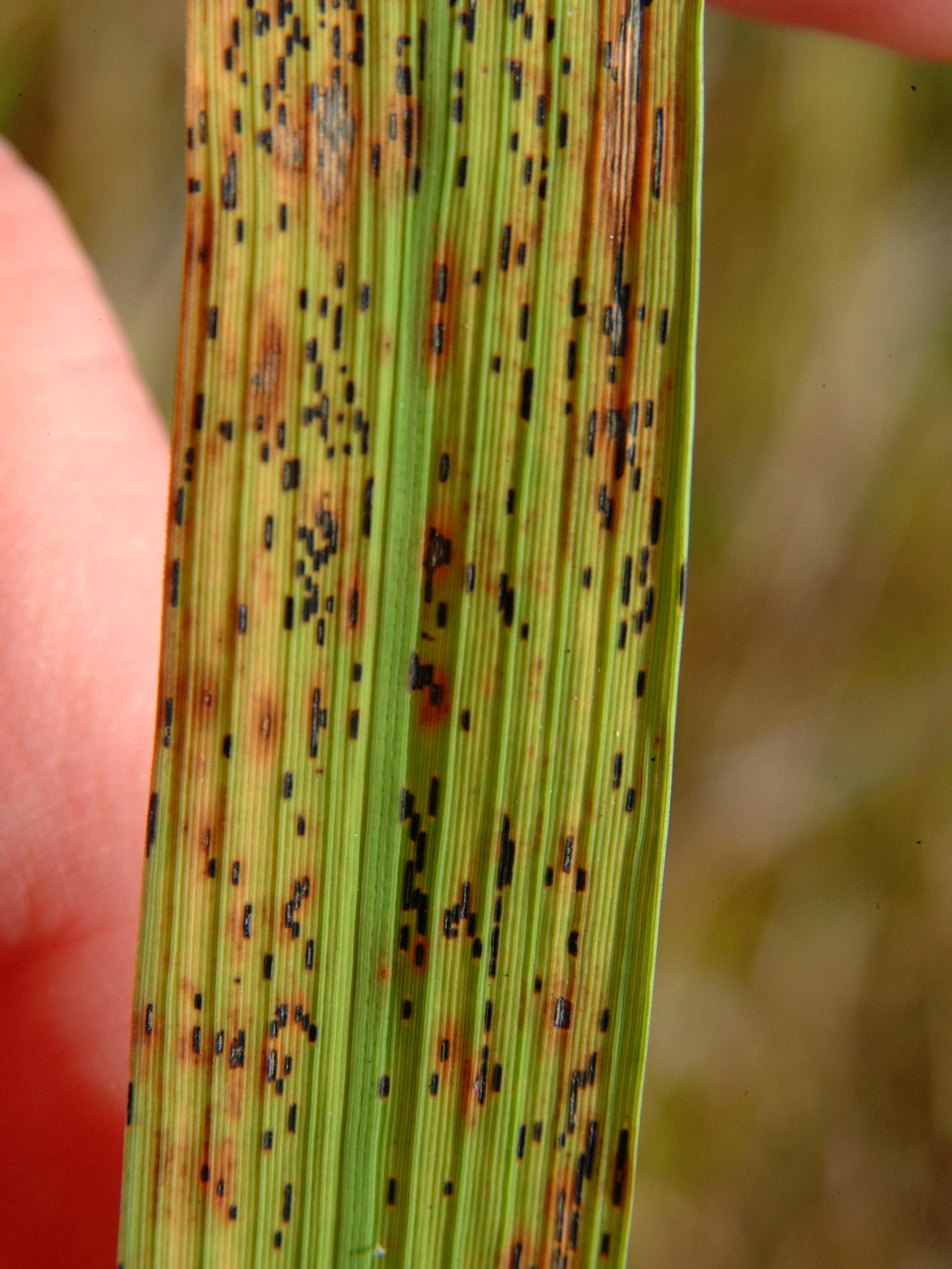Leaf Smut: (114, 0, 710, 1269), (242, 227, 388, 740), (363, 766, 561, 1137), (575, 240, 690, 659)
